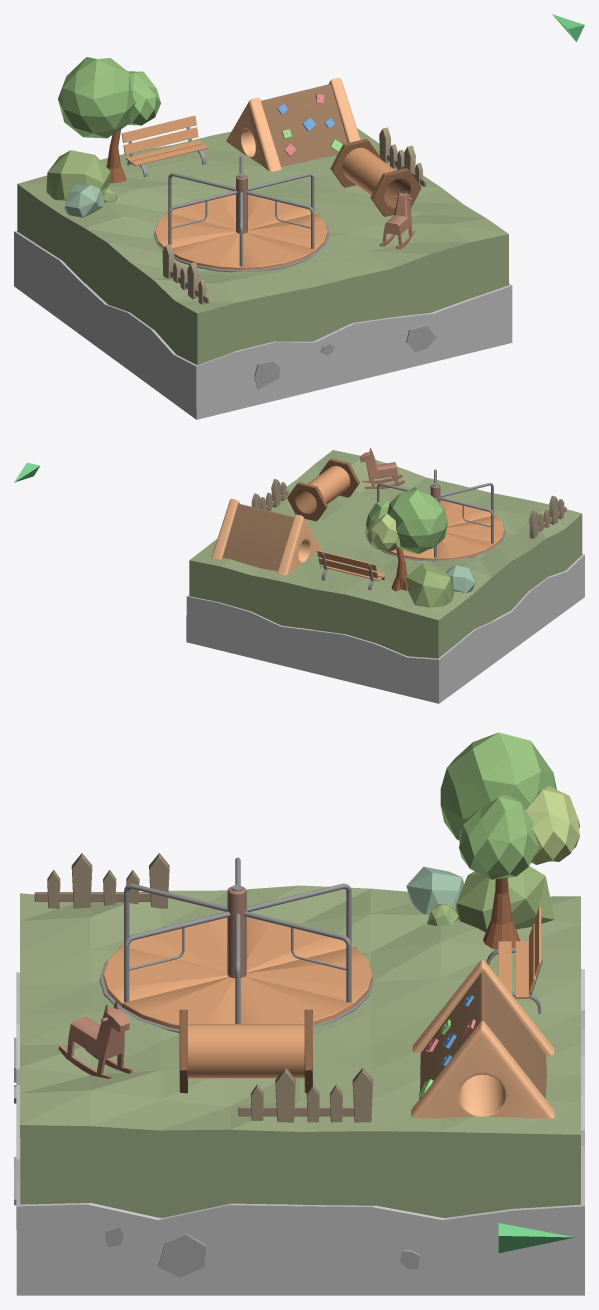
File: park.glb
3 views of the same model, one above another, from view 1: azimuth 30°, elevation 25°; view 2: azimuth 150°, elevation 25°; view 3: azimuth 270°, elevation 25° (orthographic). The views are drawn at different scales.
Visible parts, largest first — view 1: Sand_1, Rock_1_0, object 6, object 7, samor_1072_371_8, C4D_1128_obj_10, object 12, yizi__9, object 13, Rock_2, object 14, object 8; view 2: Sand_1, Rock_1_0, object 7, samor_1072_371_8, object 6, C4D_1128_obj_10, object 12, yizi__9, object 8, object 13, object 14; view 3: Sand_1, Rock_1_0, object 6, samor_1072_371_8, object 7, C4D_1128_obj_10, object 12, object 14, object 13, object 8, yizi__9, Rock_2 (+1 smaller).
Boxes of the visible parts, <box> form: Sand_1: <box>17,128,508,365</box>; Rock_1_0: <box>14,231,512,419</box>; object 6: <box>153,156,329,272</box>; object 7: <box>226,78,360,171</box>; samor_1072_371_8: <box>58,57,160,183</box>; C4D_1128_obj_10: <box>330,138,421,216</box>; object 12: <box>46,150,117,217</box>; yizi__9: <box>121,115,208,177</box>; object 13: <box>162,244,208,304</box>; Rock_2: <box>254,325,436,389</box>; object 14: <box>379,127,425,186</box>; object 8: <box>379,190,415,249</box>; Sand_1: <box>189,450,582,658</box>; Rock_1_0: <box>186,553,584,703</box>; object 7: <box>211,498,321,575</box>; samor_1072_371_8: <box>366,487,448,591</box>; object 6: <box>365,469,505,561</box>; C4D_1128_obj_10: <box>287,458,359,521</box>; object 12: <box>405,563,475,607</box>; yizi__9: <box>317,550,386,589</box>; object 8: <box>360,448,404,489</box>; object 13: <box>529,495,566,538</box>; object 14: <box>251,479,288,511</box>; Sand_1: <box>20,885,580,1217</box>; Rock_1_0: <box>16,969,584,1295</box>; object 6: <box>99,857,374,1032</box>; samor_1072_371_8: <box>440,732,579,949</box>; object 7: <box>411,959,554,1118</box>; C4D_1128_obj_10: <box>179,1009,312,1093</box>; object 12: <box>406,866,554,932</box>; object 14: <box>238,1067,373,1122</box>; object 13: <box>34,853,169,908</box>; object 8: <box>58,1001,132,1078</box>; yizi__9: <box>486,907,543,1013</box>; Rock_2: <box>14,1037,419,1277</box>.
Size of what is drawn, in the model's own units: 3.49 by 1.44 by 2.04.
